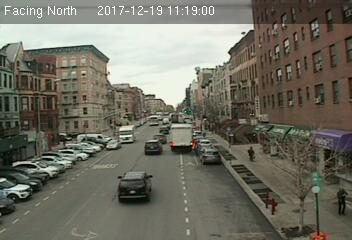car: (117, 171, 154, 201), (200, 148, 220, 163), (144, 140, 162, 154), (153, 133, 167, 145), (106, 139, 121, 150)
pedestrian: (337, 186, 349, 218)
truck: (169, 122, 193, 153), (118, 125, 135, 143)
